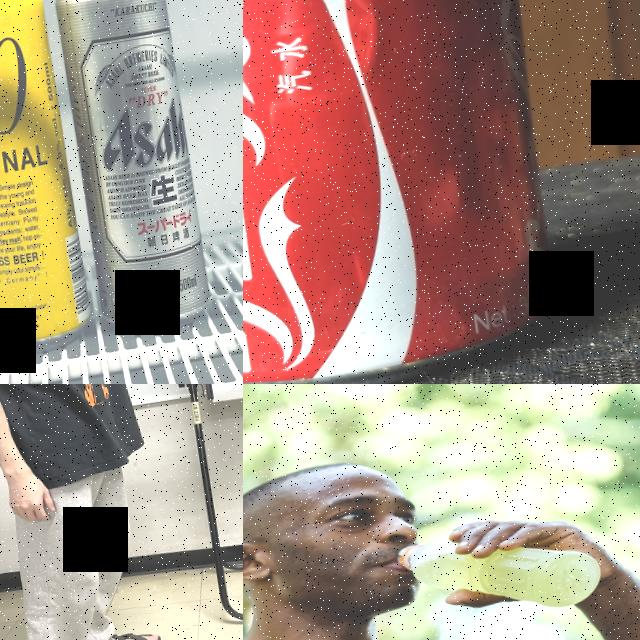bottle: (392, 512, 611, 636)
can: (243, 0, 576, 384), (48, 0, 218, 343), (0, 0, 98, 360)
